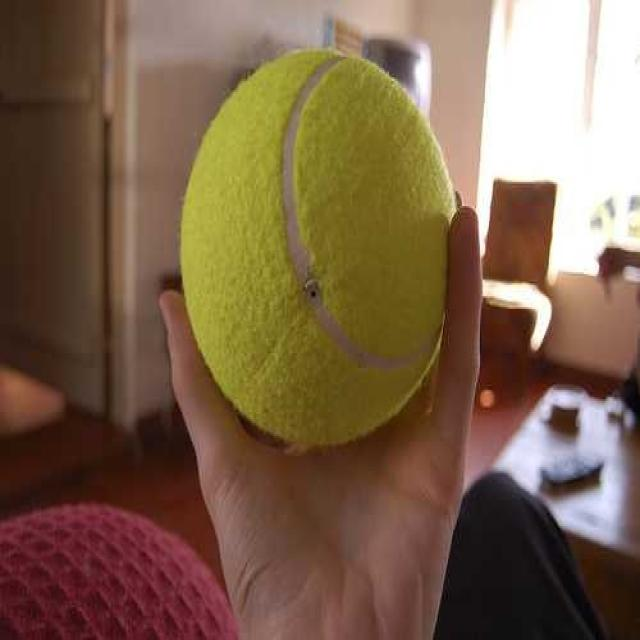Tennis_Ball: (180, 40, 454, 450)
